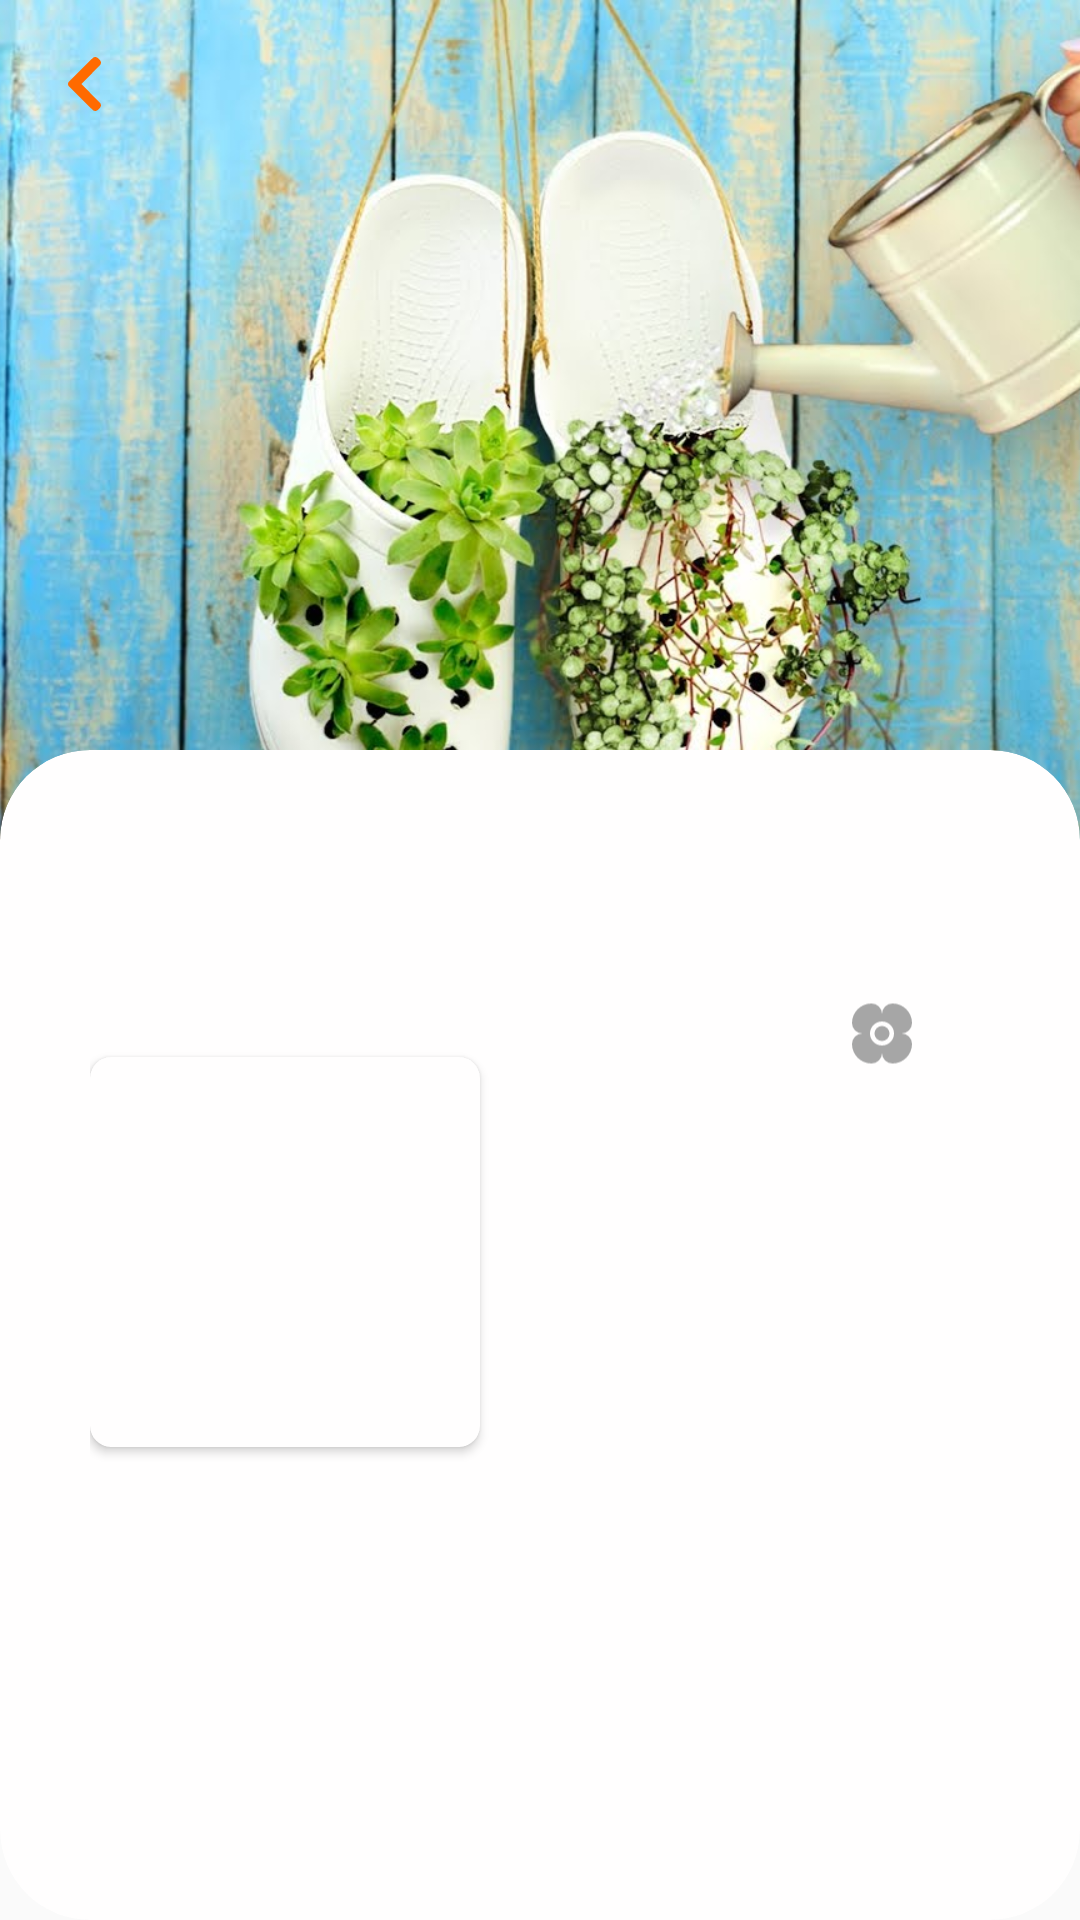

Icon click points for this 1080 × 1920 phone screenshot, format [x,y]:
flower: [882,1033]
